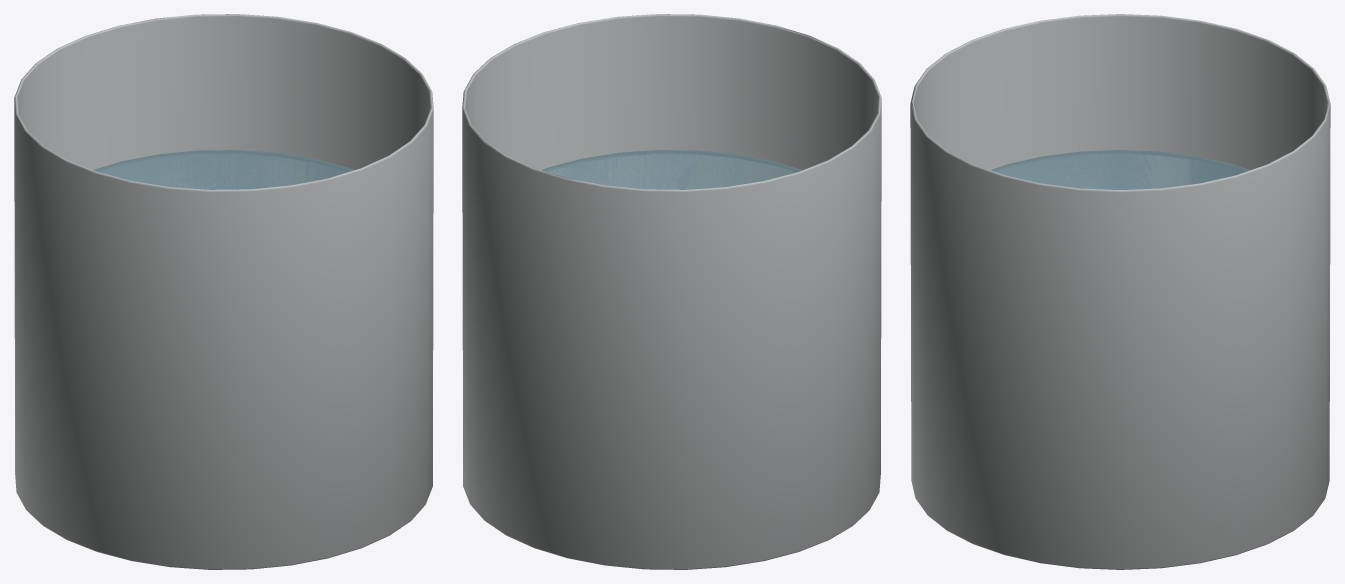
Rendered from glass.fbx.
The picture shows the model from 3 angles, left to right: view 1: azimuth 30°, elevation 25°; view 2: azimuth 150°, elevation 25°; view 3: azimuth 270°, elevation 25°; orthographic projection.
Parts seen in each view (by area): view 1: Drink_Glass.001, Drink_Liquid; view 2: Drink_Glass.001, Drink_Liquid; view 3: Drink_Glass.001, Drink_Liquid.
Boxes of the visible parts, box(x1,y1,x2,y2) form: Drink_Glass.001: box(14, 14, 433, 569); Drink_Liquid: box(93, 150, 353, 189); Drink_Glass.001: box(462, 14, 881, 569); Drink_Liquid: box(542, 150, 802, 189); Drink_Glass.001: box(910, 14, 1330, 569); Drink_Liquid: box(991, 150, 1249, 189).
Size of the model in its own units: 124 by 123 by 124.
